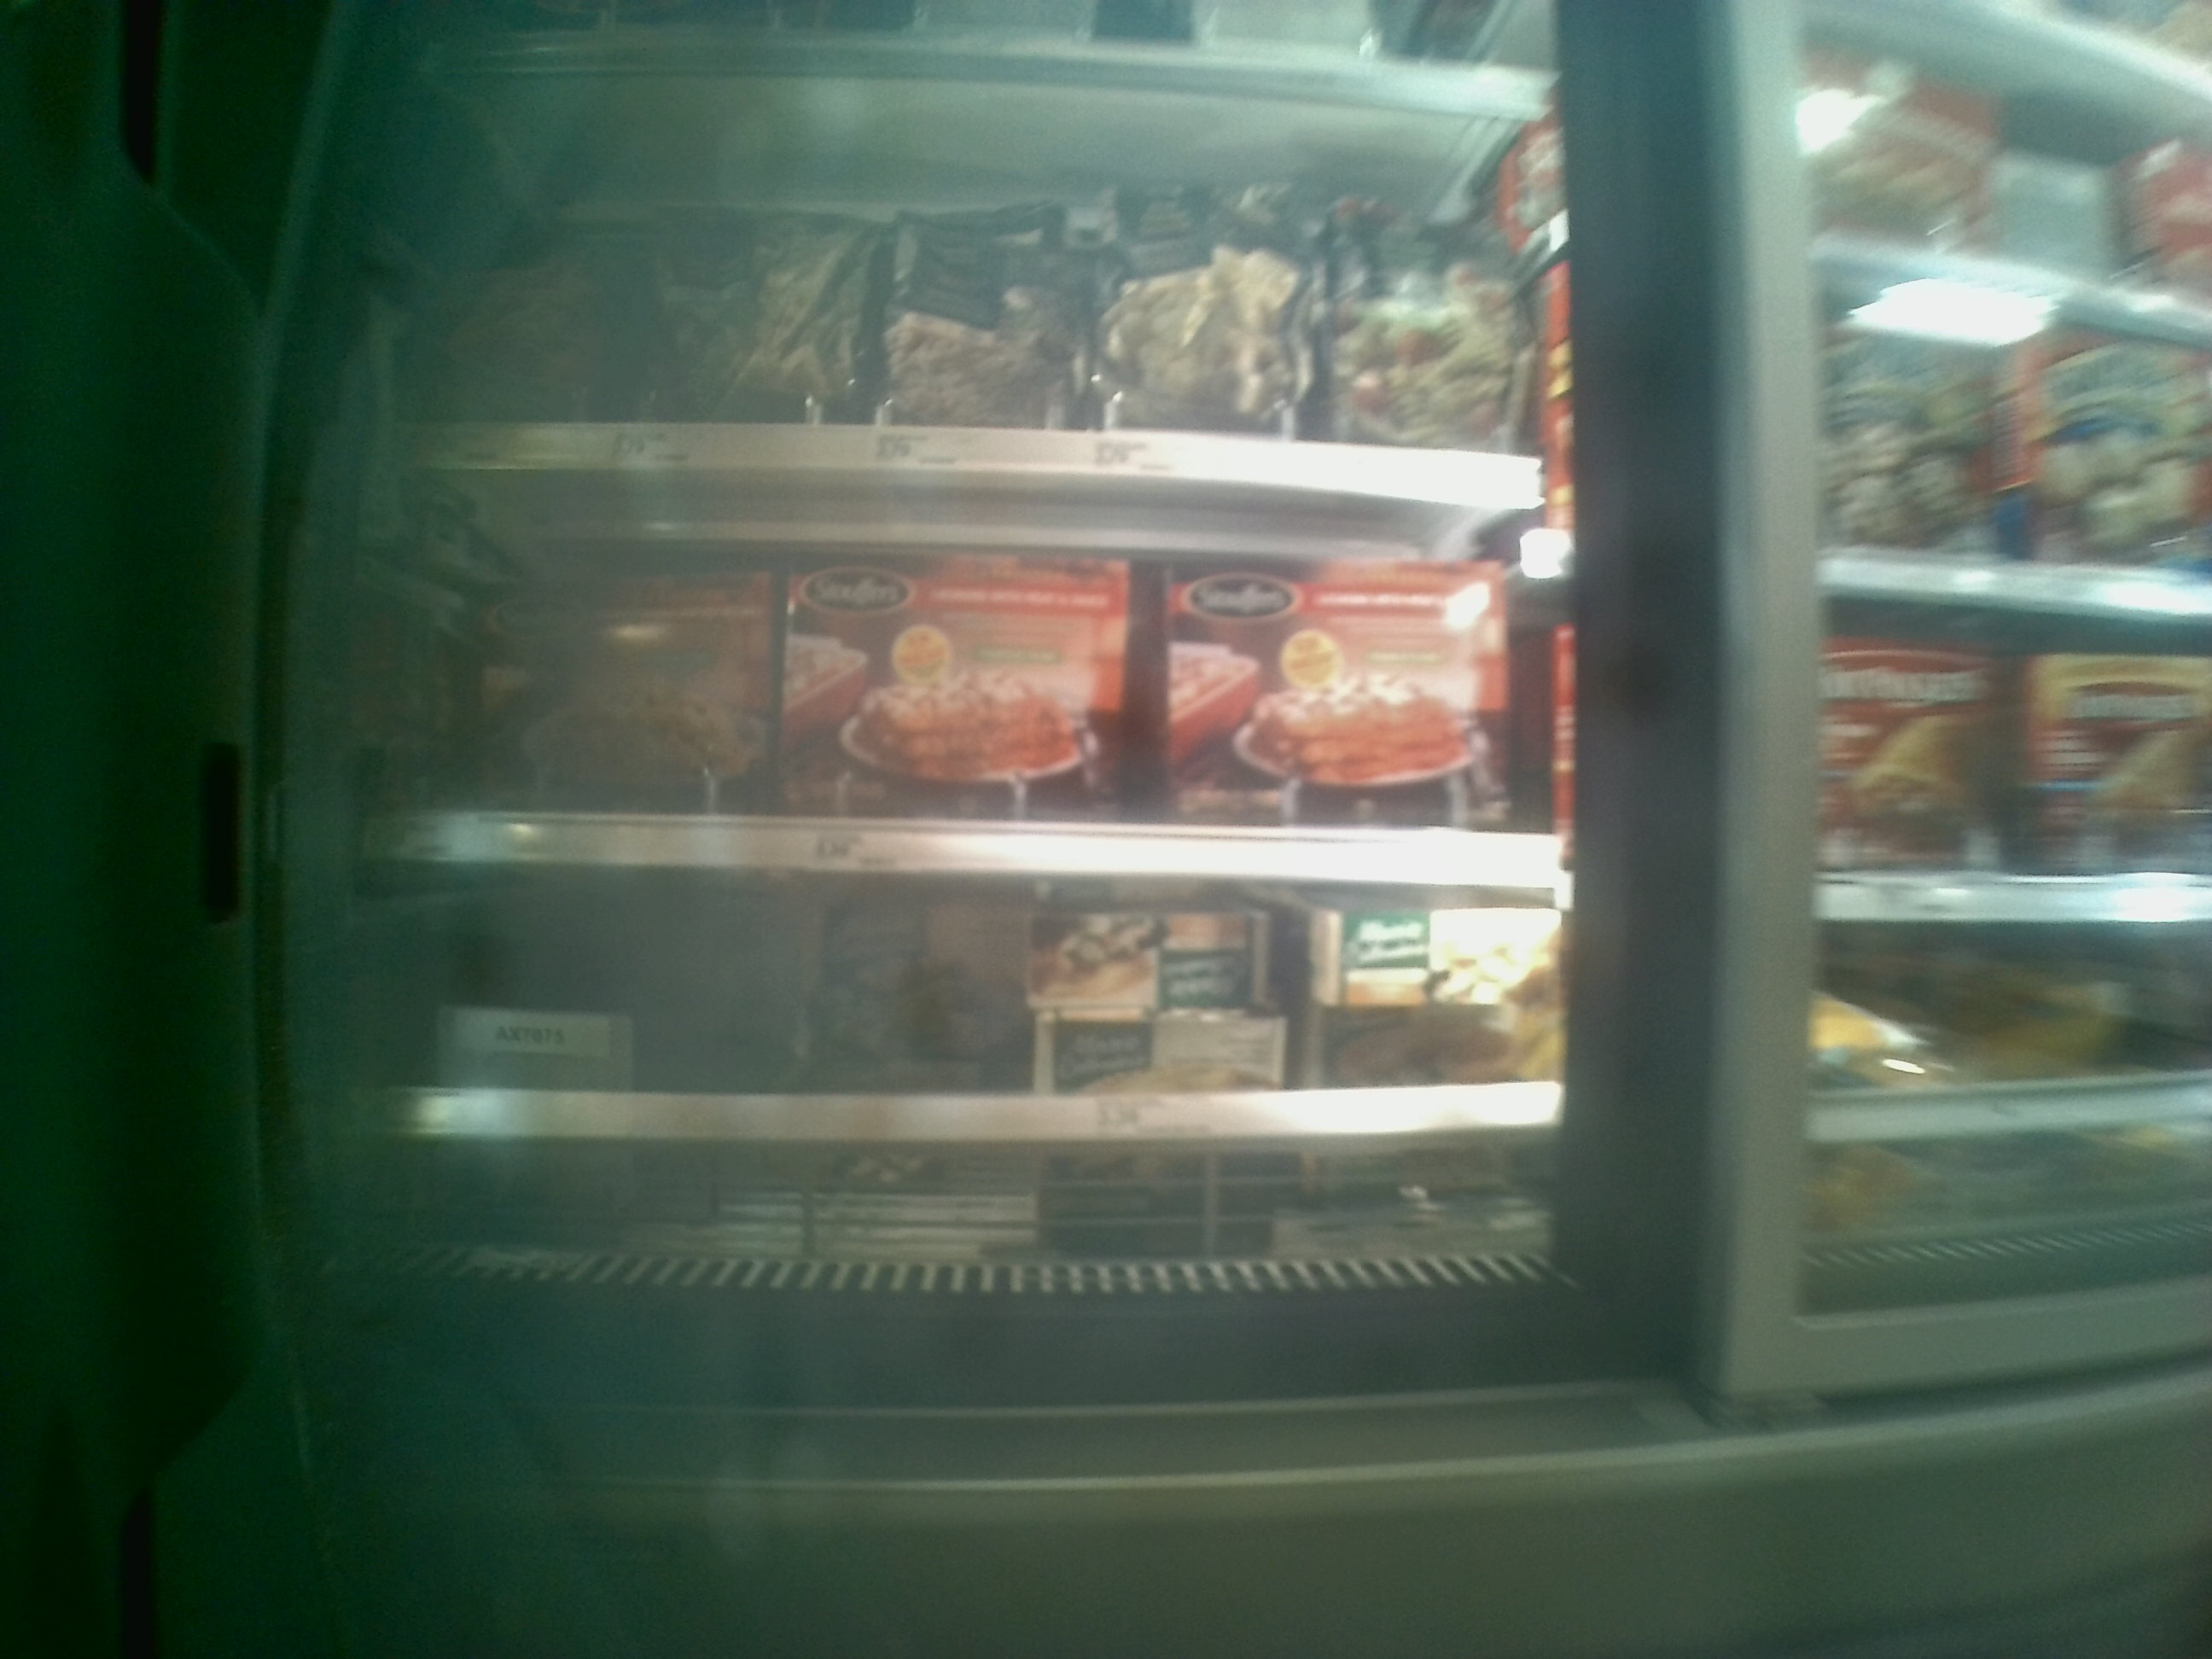frozen-food-shelf: (376, 483, 1547, 877), (394, 132, 1562, 495)
